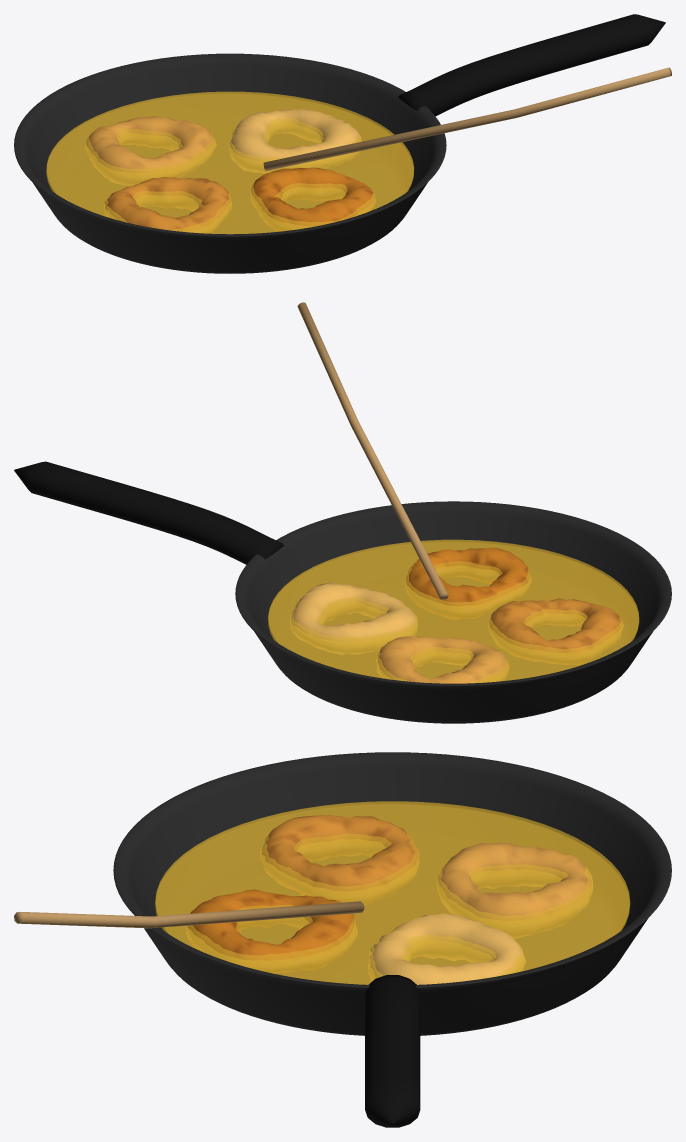
The model's file is paso-3.glb.
3 views of the same model, one above another, from view 1: azimuth 30°, elevation 25°; view 2: azimuth 150°, elevation 25°; view 3: azimuth 270°, elevation 25° (orthographic). The views are drawn at different scales.
Parts seen in each view (by area): view 1: paso-3-0, paso-3-2, paso-3-1, paso-3-4, paso-3-6, paso-3-3, paso-3-5, paso-3-7; view 2: paso-3-0, paso-3-2, paso-3-1, paso-3-5, paso-3-3, paso-3-6, paso-3-4, paso-3-7; view 3: paso-3-0, paso-3-2, paso-3-4, paso-3-5, paso-3-6, paso-3-1, paso-3-3, paso-3-7.
Part boxes in pixels (box(x1,y1,x2,y2)): paso-3-0: box(14, 53, 446, 273); paso-3-2: box(46, 91, 414, 234); paso-3-1: box(398, 14, 665, 116); paso-3-4: box(85, 116, 216, 185); paso-3-6: box(250, 167, 375, 231); paso-3-3: box(229, 109, 361, 173); paso-3-5: box(104, 177, 231, 233); paso-3-7: box(263, 67, 671, 170); paso-3-0: box(235, 501, 671, 723); paso-3-2: box(268, 539, 639, 683); paso-3-1: box(14, 461, 283, 564); paso-3-5: box(488, 598, 623, 664); paso-3-3: box(290, 582, 417, 654); paso-3-6: box(405, 547, 531, 619); paso-3-4: box(376, 636, 509, 683); paso-3-7: box(297, 302, 448, 600); paso-3-0: box(113, 752, 671, 1035); paso-3-2: box(155, 801, 630, 984); paso-3-4: box(437, 842, 592, 938); paso-3-5: box(260, 815, 419, 905); paso-3-6: box(186, 889, 357, 973); paso-3-1: box(365, 975, 420, 1127); paso-3-3: box(368, 913, 525, 984); paso-3-7: box(14, 901, 364, 928).
Size of the model in its own units: 0.4219 by 0.1076 by 0.2991.
